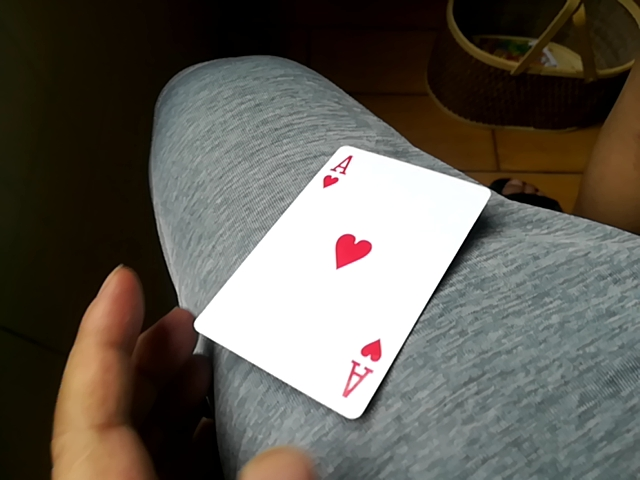hx a: (188, 145, 498, 418)
